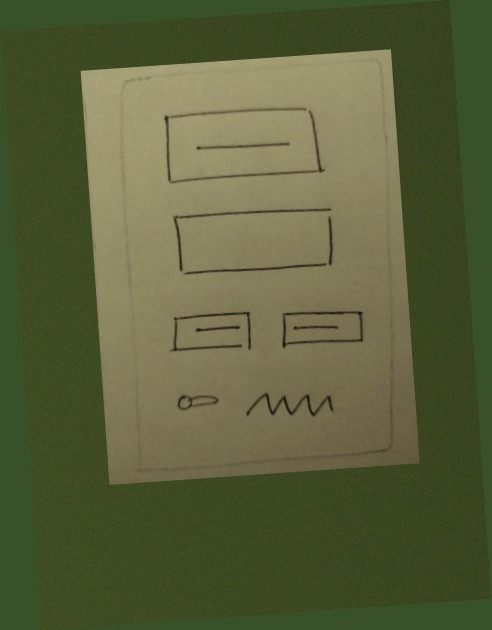button: (157, 94, 332, 195), (166, 306, 261, 360), (273, 303, 369, 356)
switch: (169, 384, 227, 418)
text: (240, 383, 341, 431)
text_input: (165, 199, 343, 283)
